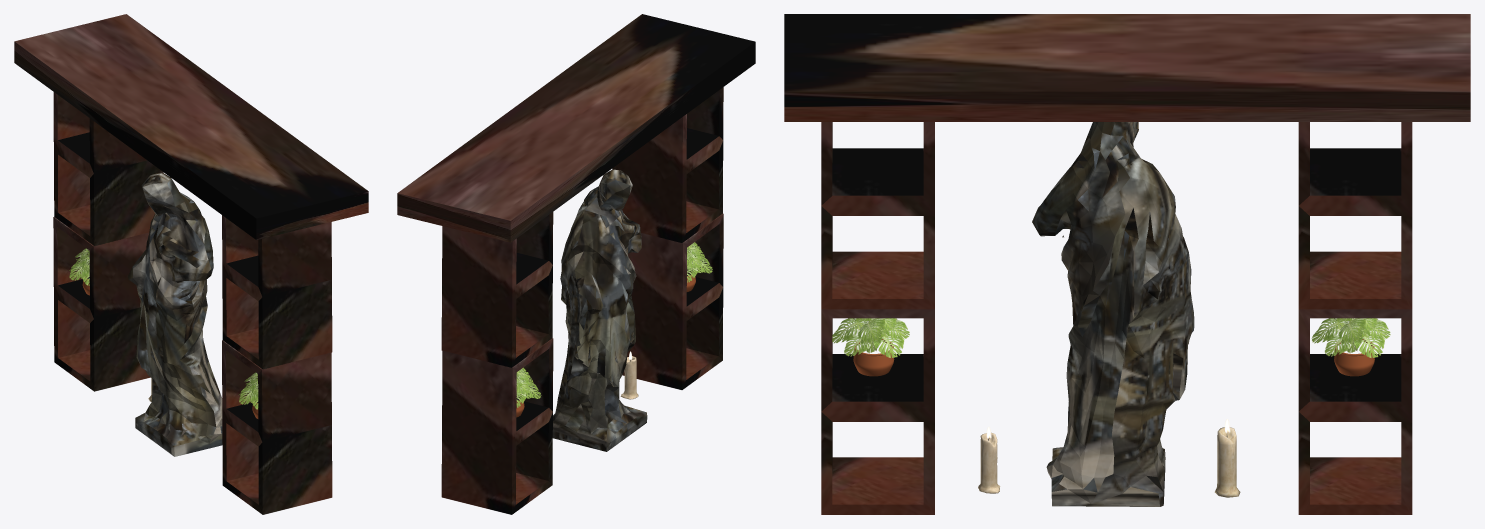
File: altra.glb
The picture shows the model from 3 angles, left to right: view 1: azimuth 30°, elevation 25°; view 2: azimuth 150°, elevation 25°; view 3: azimuth 270°, elevation 25°; orthographic projection. The views are drawn at different scales.
Parts seen in each view (by area): view 1: Cube, Jesus_C, pCube1.002, pCube1.003, pCube1, pCube1.001, PlantPot_2; view 2: Cube, Jesus_C, pCube1, pCube1.001, pCube1.002, pCube1.003, PlantPot_2, candle 2 low; view 3: Cube, Jesus_C, pCube1, pCube1.002, pCube1.001, pCube1.003, PlantPot_2, cande 3 low, candle 2 low.
Boxes of the visible parts, box(x1,y1,x2,y2) form: Cube: box(14, 14, 368, 239); Jesus_C: box(128, 173, 222, 456); pCube1.002: box(222, 340, 332, 514); pCube1.003: box(222, 215, 332, 369); pCube1: box(53, 217, 150, 391); pCube1.001: box(53, 92, 163, 246); PlantPot_2: box(69, 248, 258, 418); Cube: box(397, 14, 755, 242); Jesus_C: box(552, 169, 647, 451); pCube1: box(441, 338, 553, 514); pCube1.001: box(441, 212, 553, 367); pCube1.002: box(622, 213, 723, 389); pCube1.003: box(612, 87, 723, 242); PlantPot_2: box(516, 242, 712, 417); candle 2 low: box(620, 351, 638, 399); Cube: box(784, 14, 1470, 121); Jesus_C: box(1032, 122, 1194, 506); pCube1: box(1298, 309, 1412, 514); pCube1.002: box(821, 309, 934, 514); pCube1.001: box(1298, 122, 1412, 309); pCube1.003: box(821, 122, 934, 309); PlantPot_2: box(832, 318, 1390, 376); cande 3 low: box(1214, 419, 1240, 497); candle 2 low: box(978, 426, 1000, 493).
Bounding box in the file's own units: 0.6683 × 1.77 × 2.5.
8 materials, 7 textured.
